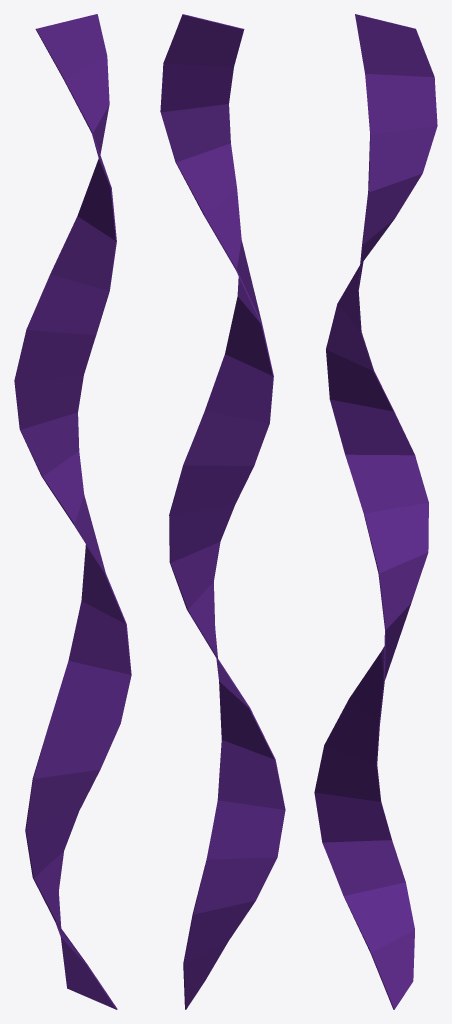
File: party_streamer_purple.glb
3 renders of one model, left to right at view 1: azimuth 30°, elevation 25°; view 2: azimuth 150°, elevation 25°; view 3: azimuth 330°, elevation 25°, orthographic.
Parts seen in each view (by area): view 1: party_streamer_purple_body; view 2: party_streamer_purple_body; view 3: party_streamer_purple_body.
Part boxes in pixels (<box>): party_streamer_purple_body: <box>14,14,131,1009</box>; party_streamer_purple_body: <box>160,14,285,1009</box>; party_streamer_purple_body: <box>314,14,437,1009</box>.
Bounding box in the file's own units: 0.0781 × 0.7001 × 0.07.
1 material, 1 textured.
